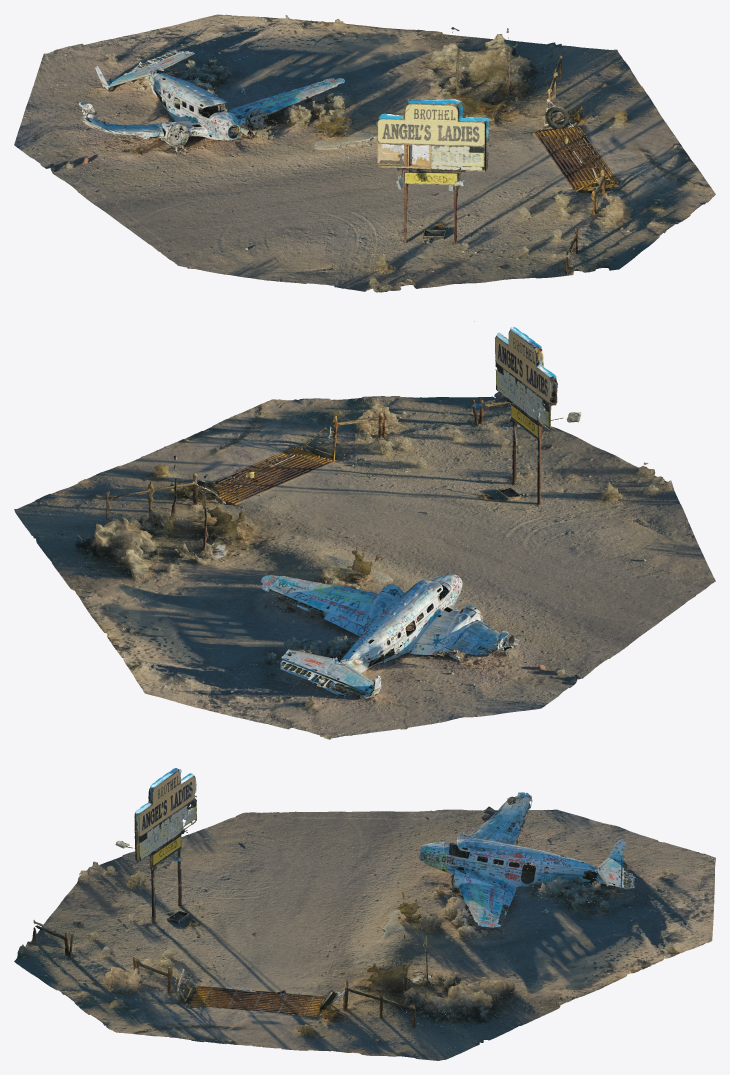
3 views of the same model, one above another, from view 1: azimuth 30°, elevation 25°; view 2: azimuth 150°, elevation 25°; view 3: azimuth 270°, elevation 25° (orthographic). The views are drawn at different scales.
Visible parts, largest first — view 1: Object_8, Object_2, Object_5, Object_3, Object_6, Object_9, Object_4, Object_7; view 2: Object_2, Object_5, Object_8, Object_3, Object_6, Object_9, Object_4, Object_7; view 3: Object_2, Object_3, Object_5, Object_8, Object_6, Object_9, Object_4, Object_7.
Part boxes in pixels (<box>): Object_8: <box>17,14,635,291</box>; Object_2: <box>54,16,696,286</box>; Object_5: <box>26,22,702,292</box>; Object_3: <box>72,19,714,290</box>; Object_6: <box>51,19,715,288</box>; Object_9: <box>14,16,658,292</box>; Object_4: <box>66,16,682,290</box>; Object_7: <box>43,15,709,289</box>; Object_2: <box>15,328,715,723</box>; Object_5: <box>58,327,666,739</box>; Object_8: <box>39,392,683,737</box>; Object_3: <box>21,344,671,702</box>; Object_6: <box>75,329,705,717</box>; Object_9: <box>14,335,670,733</box>; Object_4: <box>81,321,668,703</box>; Object_7: <box>32,379,661,728</box>; Object_2: <box>25,769,703,1060</box>; Object_3: <box>26,769,650,1060</box>; Object_5: <box>18,768,715,1041</box>; Object_8: <box>24,793,713,1049</box>; Object_6: <box>14,771,666,1051</box>; Object_9: <box>19,770,715,1060</box>; Object_4: <box>22,769,665,1041</box>; Object_7: <box>24,786,714,1056</box>.
Size of the model in its own units: 29.48 by 7.64 by 34.03.
8 materials, 8 textured.
